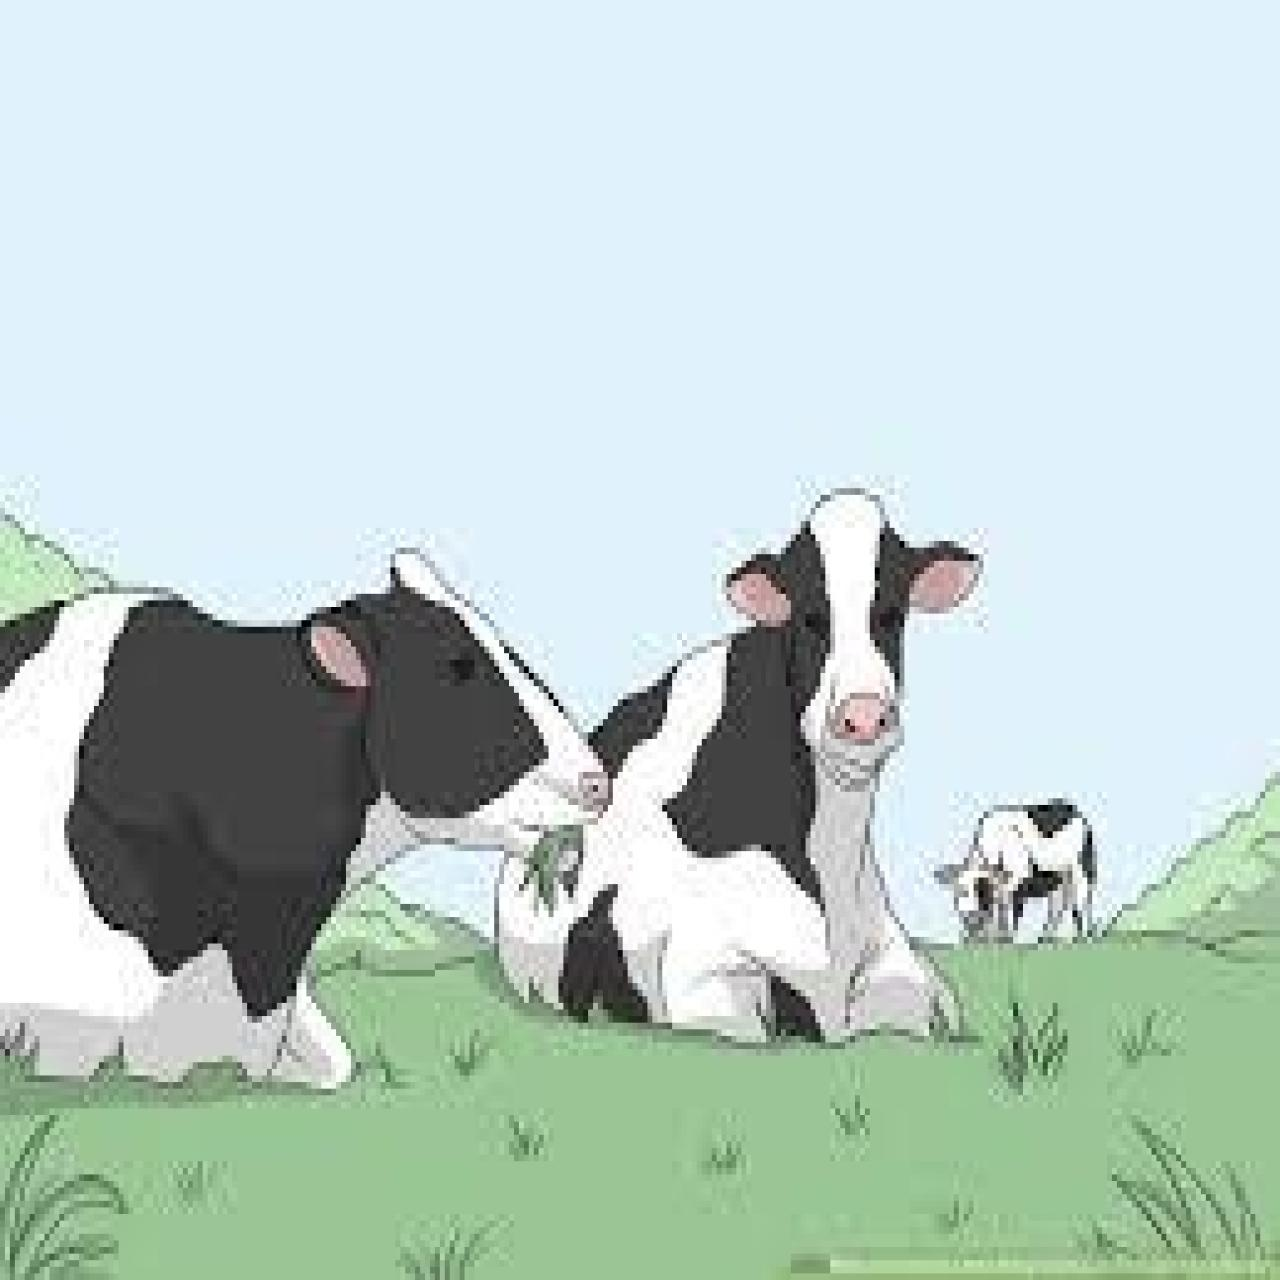cow: (0, 564, 608, 1078), (497, 498, 1001, 1046), (941, 795, 1090, 940)
